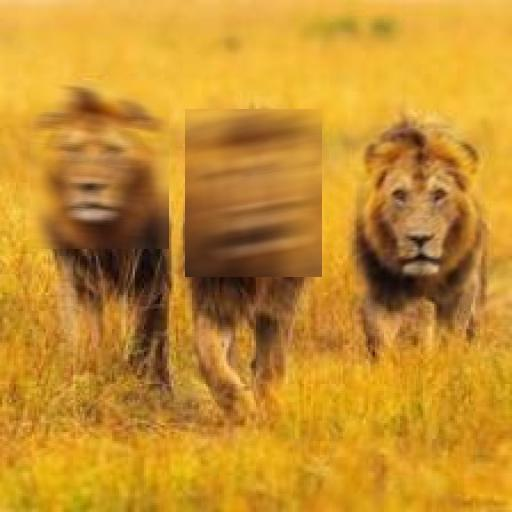lion: (30, 80, 169, 249), (185, 110, 322, 278), (357, 117, 481, 297)
